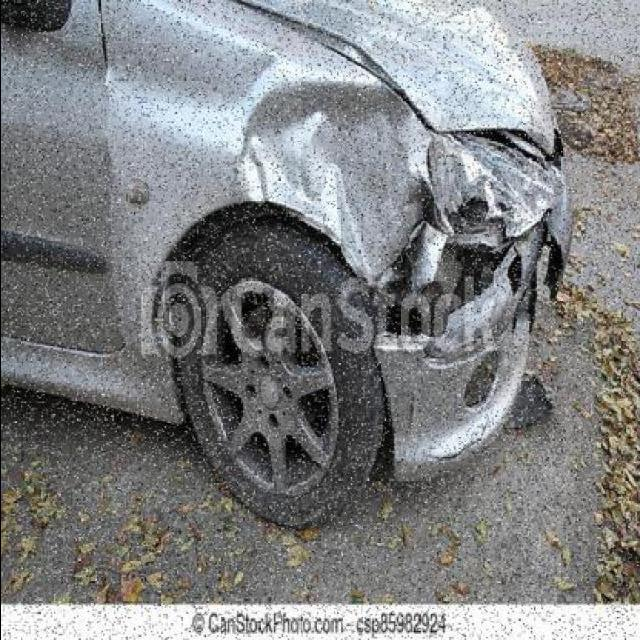Headlight-Damage: (404, 121, 571, 245)
fender-dent: (97, 58, 396, 334)
front-bumper-dent: (353, 227, 564, 489)
